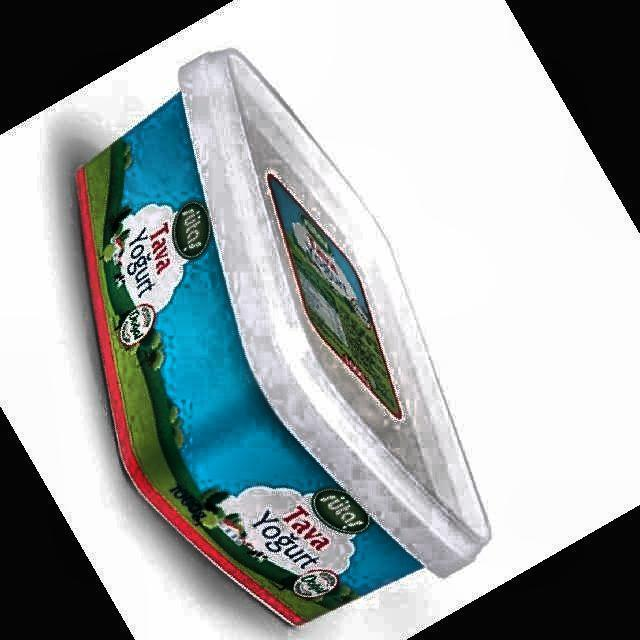plastic: (76, 50, 490, 623)
